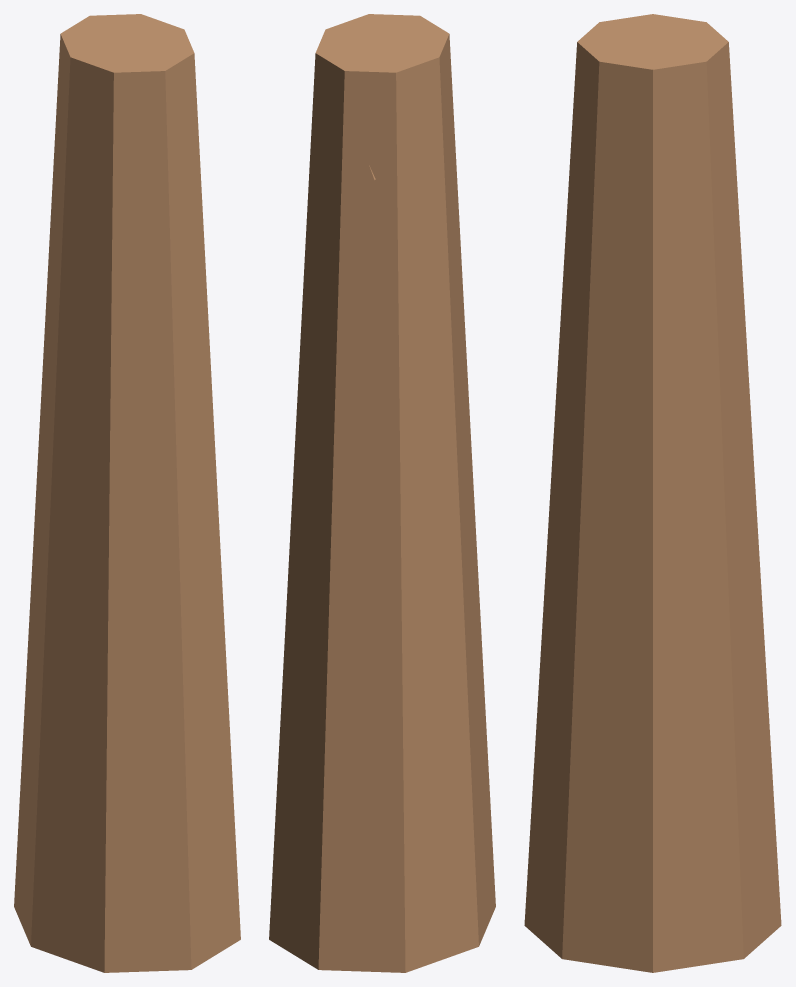
Rendered from wheelstand.glb.
3 views of the same model, side by side, from view 1: azimuth 30°, elevation 25°; view 2: azimuth 150°, elevation 25°; view 3: azimuth 270°, elevation 25° (orthographic).
Visible parts, largest first — view 1: Wheel.001; view 2: Wheel.001; view 3: Wheel.001.
Boxes of the visible parts, left/top/right/bottom form: Wheel.001: left=14, top=14, right=240, bottom=972; Wheel.001: left=269, top=14, right=495, bottom=972; Wheel.001: left=524, top=14, right=781, bottom=972.
Size of what is drawn, in the model's own units: 0.6885 by 3 by 0.7904.
1 material, 1 textured.
